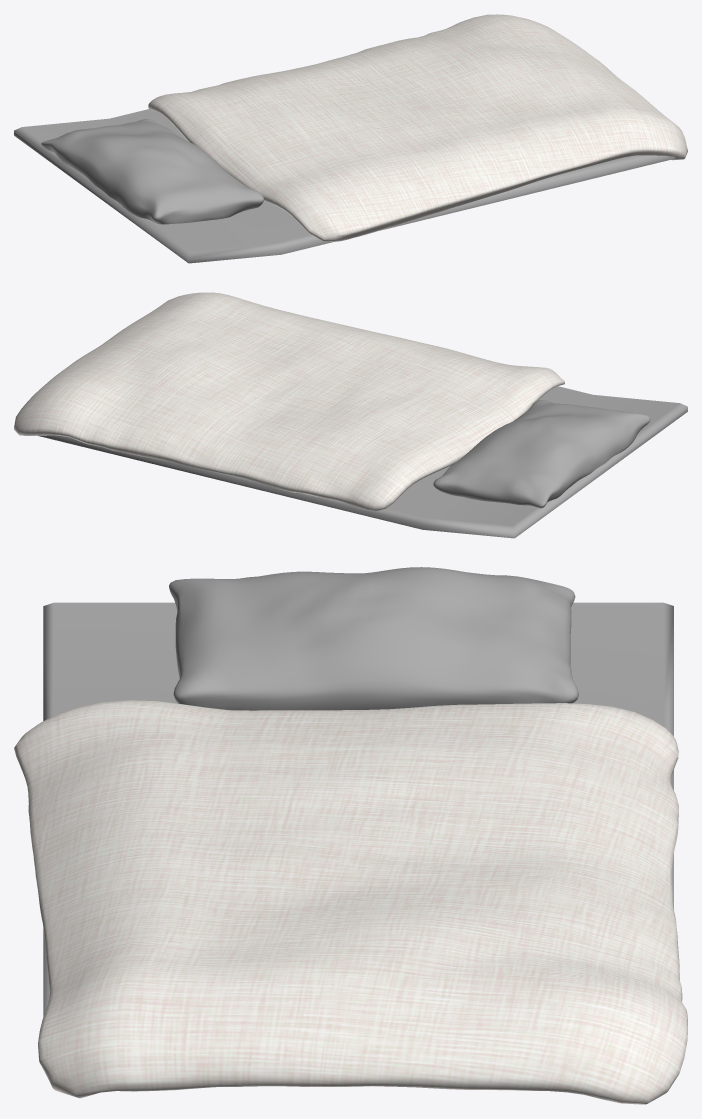
File: Bedroom_MattressBedPillow_001.fbx
The picture shows the model from 3 angles, top to bottom: view 1: azimuth 30°, elevation 25°; view 2: azimuth 150°, elevation 25°; view 3: azimuth 270°, elevation 25°; orthographic projection. The views are drawn at different scales.
Visible parts, largest first — view 1: Low_blanket_2:ZBrush_defualt_group, Low_pillow:Group10735, pCube41; view 2: Low_blanket_2:ZBrush_defualt_group, Low_pillow:Group10735, pCube41; view 3: Low_blanket_2:ZBrush_defualt_group, Low_pillow:Group10735, pCube41.
Boxes of the visible parts, x1,y1,x2,y2 form: Low_blanket_2:ZBrush_defualt_group: (148,14,687,241); Low_pillow:Group10735: (41,119,263,224); pCube41: (14,109,675,263); Low_blanket_2:ZBrush_defualt_group: (14,292,564,511); Low_pillow:Group10735: (433,400,650,508); pCube41: (37,386,687,538); Low_blanket_2:ZBrush_defualt_group: (14,700,687,1104); Low_pillow:Group10735: (169,567,578,710); pCube41: (43,602,673,1016).
Bounding box in the file's own units: 310 × 34.55 × 193.
